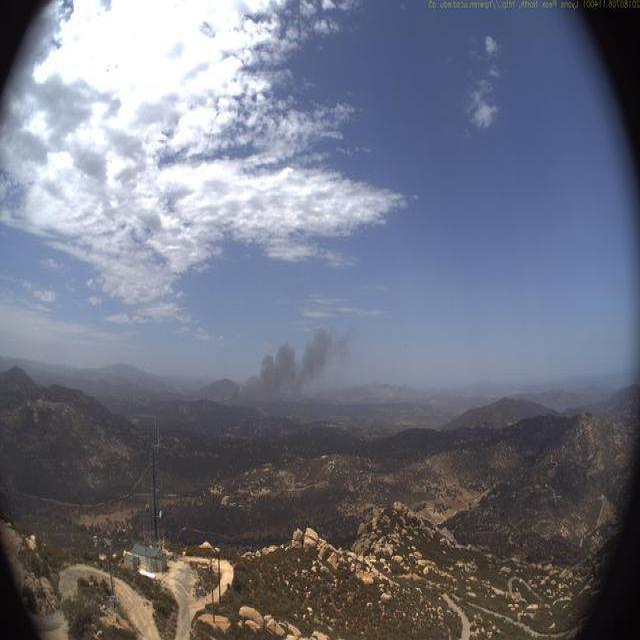Smoke: (224, 320, 357, 424)
